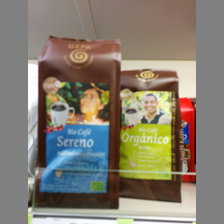coffee: (37, 35, 121, 209), (118, 69, 183, 200)
